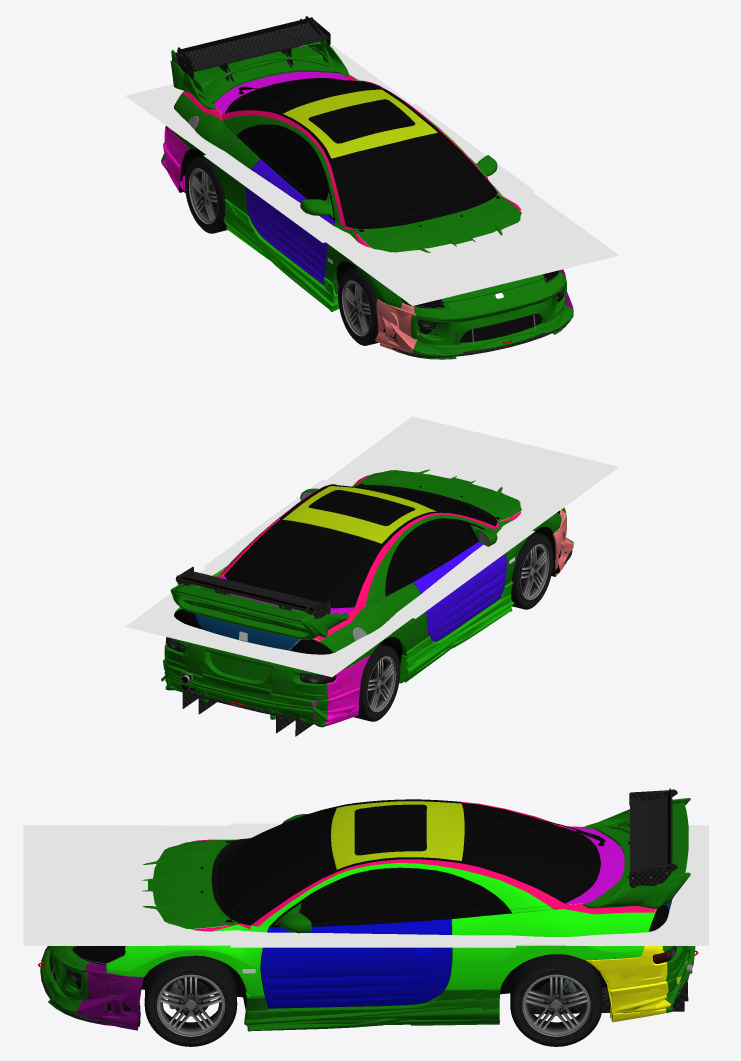
The model's file is eclipse.fbx.
The picture shows the model from 3 angles, top to bottom: view 1: azimuth 30°, elevation 25°; view 2: azimuth 150°, elevation 25°; view 3: azimuth 270°, elevation 25°; orthographic projection. The views are drawn at different scales.
Visible parts, largest first — view 1: neon (×4), mit_eclipsegts_03_body_body_, shadow, mit_eclipsegts_03_glassF_window_, mit_eclipsegts_03_bumperFc_body_, mit_eclipsegts_03_wingrace_carbon_fiber_, mit_eclipsegts_03_bumperFe_body_, mit_eclipsegts_03_hooda_body_, mit_eclipsegts_03_hoodb_body_, mit_eclipsegts_03_glassRF_window_, mit_eclipsegts_03_wheel_tire_ (×2), mit_eclipsegts_03_body_rubber_trim_ (+18 smaller); view 2: neon (×4), mit_eclipsegts_03_body_body_, shadow, mit_eclipsegts_03_glassR_window_, mit_eclipsegts_03_bumperRd_body_, mit_eclipsegts_03_bumperRc_body_, mit_eclipsegts_03_wingg_body_, mit_eclipsegts_03_wheel_tire_ (×2), mit_eclipsegts_03_glassRF_window_, mit_eclipsegts_03_bumperRe_body_, mit_eclipsegts_03_trunk_black_glass_, mit_eclipsegts_03_body_rubber_trim_ (+16 smaller); view 3: mit_eclipsegts_03_body_body_, neon (×4), shadow, mit_eclipsegts_03_wheel_tire_ (×2), mit_eclipsegts_03_glassF_window_, mit_eclipsegts_03_glassLF_window_, mit_eclipsegts_03_glassR_window_, mit_eclipsegts_03_body_rubber_trim_, mit_eclipsegts_03_wingrace_carbon_fiber_, mit_eclipsegts_03_wheel_rim_ (×2), mit_eclipsegts_03_skirtLc_body_, mit_eclipsegts_03_glassT_window_ (+27 smaller).
Boxes of the visible parts, x1,y1,x2,y2 form: neon (×4): (125, 45, 618, 305); mit_eclipsegts_03_body_body_: (171, 74, 521, 308); shadow: (165, 69, 574, 284); mit_eclipsegts_03_glassF_window_: (334, 138, 486, 221); mit_eclipsegts_03_bumperFc_body_: (375, 272, 566, 353); mit_eclipsegts_03_wingrace_carbon_fiber_: (175, 19, 330, 81); mit_eclipsegts_03_bumperFe_body_: (378, 269, 573, 355); mit_eclipsegts_03_hooda_body_: (354, 194, 544, 302); mit_eclipsegts_03_hoodb_body_: (354, 199, 542, 302); mit_eclipsegts_03_glassRF_window_: (263, 127, 328, 200); mit_eclipsegts_03_wheel_tire_ (×2): (185, 156, 378, 345); mit_eclipsegts_03_body_rubber_trim_: (236, 89, 495, 226); neon (×4): (125, 416, 618, 677); mit_eclipsegts_03_body_body_: (174, 474, 561, 669); shadow: (167, 437, 575, 658); mit_eclipsegts_03_glassR_window_: (235, 527, 367, 601); mit_eclipsegts_03_bumperRd_body_: (161, 637, 361, 722); mit_eclipsegts_03_bumperRc_body_: (165, 641, 368, 727); mit_eclipsegts_03_wingg_body_: (171, 583, 348, 639); mit_eclipsegts_03_wheel_tire_ (×2): (353, 532, 553, 721); mit_eclipsegts_03_glassRF_window_: (397, 520, 475, 578); mit_eclipsegts_03_bumperRe_body_: (167, 646, 369, 720); mit_eclipsegts_03_trunk_black_glass_: (226, 519, 383, 604); mit_eclipsegts_03_body_rubber_trim_: (280, 484, 488, 596); mit_eclipsegts_03_body_body_: (106, 801, 656, 1008); neon (×4): (23, 823, 708, 947); shadow: (53, 825, 687, 945); mit_eclipsegts_03_wheel_tire_ (×2): (144, 954, 602, 1046); mit_eclipsegts_03_glassF_window_: (230, 810, 327, 917); mit_eclipsegts_03_glassLF_window_: (300, 870, 450, 922); mit_eclipsegts_03_glassR_window_: (477, 808, 591, 891); mit_eclipsegts_03_body_rubber_trim_: (223, 799, 511, 927); mit_eclipsegts_03_wingrace_carbon_fiber_: (629, 790, 671, 888); mit_eclipsegts_03_wheel_rim_ (×2): (160, 976, 587, 1030); mit_eclipsegts_03_skirtLc_body_: (244, 988, 500, 1025); mit_eclipsegts_03_glassT_window_: (357, 805, 424, 853).
Size of the model in its own units: 4 by 1.31 by 5.
